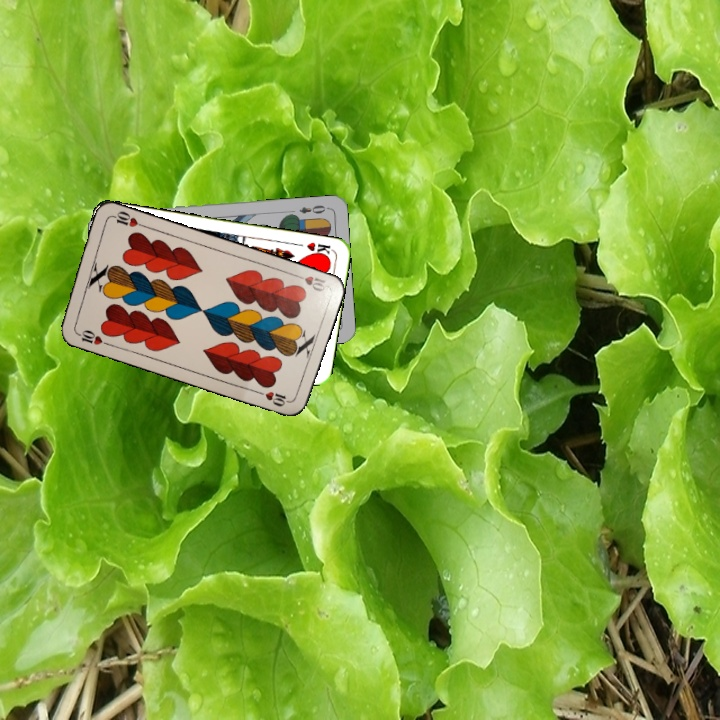EO: (295, 201, 331, 216)
H10: (290, 270, 329, 295), (72, 326, 111, 348)
HK: (294, 238, 335, 260)
